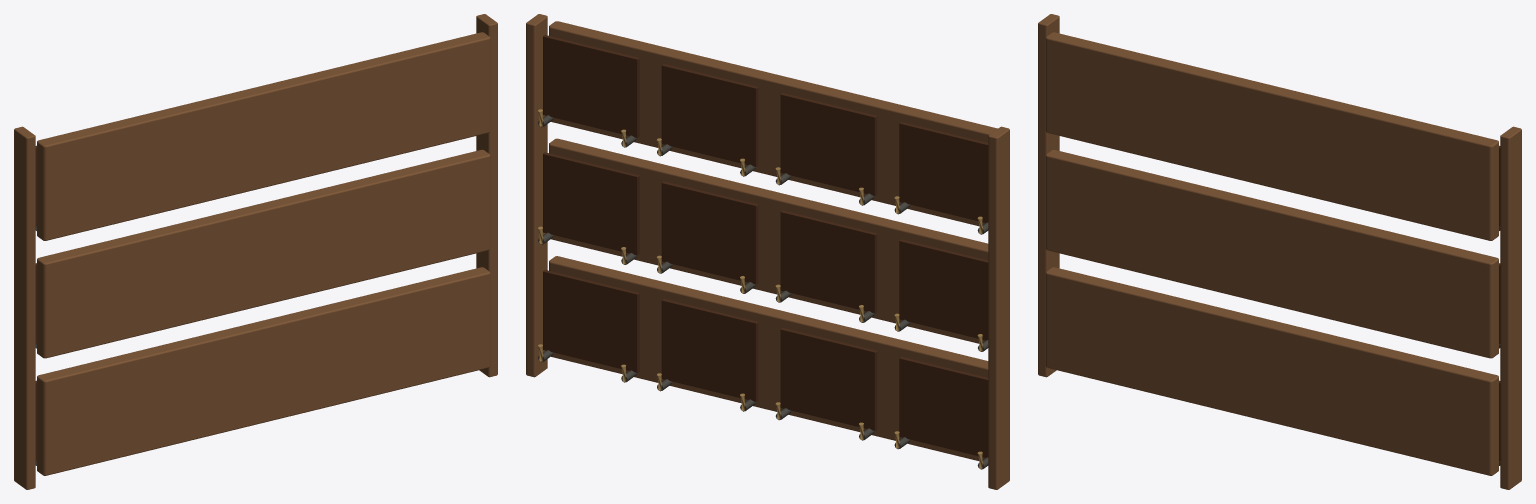
Rendered from merchant_cassette.fbx.
The picture shows the model from 3 angles, left to right: view 1: azimuth 30°, elevation 25°; view 2: azimuth 150°, elevation 25°; view 3: azimuth 330°, elevation 25°; orthographic projection.
Parts seen in each view (by area): view 1: merchant_cassette_Row2_DarkWood, merchant_cassette_Row0_DarkWood, merchant_cassette_Row1_DarkWood, merchant_cassette_DarkWood; view 2: merchant_cassette_Row0_Leather, merchant_cassette_Row2_Leather, merchant_cassette_Row1_Leather, merchant_cassette_Row2_DarkWood, merchant_cassette_Row1_DarkWood, merchant_cassette_Row0_DarkWood, merchant_cassette_DarkWood, merchant_cassette_Row0_ForgedIron, merchant_cassette_Row2_ForgedIron, merchant_cassette_Row1_ForgedIron, merchant_cassette_Row1_Brass, merchant_cassette_Row0_Brass (+1 smaller); view 3: merchant_cassette_Row2_DarkWood, merchant_cassette_Row0_DarkWood, merchant_cassette_Row1_DarkWood, merchant_cassette_DarkWood.
Part boxes in pixels (x1=…): merchant_cassette_Row2_DarkWood: x1=37, y1=32, x2=490, y2=240; merchant_cassette_Row0_DarkWood: x1=37, y1=267, x2=490, y2=475; merchant_cassette_Row1_DarkWood: x1=37, y1=149, x2=490, y2=358; merchant_cassette_DarkWood: x1=14, y1=14, x2=497, y2=489; merchant_cassette_Row0_Leather: x1=543, y1=270, x2=988, y2=457; merchant_cassette_Row2_Leather: x1=543, y1=35, x2=988, y2=222; merchant_cassette_Row1_Leather: x1=543, y1=152, x2=988, y2=340; merchant_cassette_Row2_DarkWood: x1=549, y1=21, x2=997, y2=226; merchant_cassette_Row1_DarkWood: x1=549, y1=138, x2=988, y2=343; merchant_cassette_Row0_DarkWood: x1=549, y1=256, x2=988, y2=460; merchant_cassette_DarkWood: x1=526, y1=14, x2=1009, y2=489; merchant_cassette_Row0_ForgedIron: x1=538, y1=350, x2=988, y2=469; merchant_cassette_Row2_ForgedIron: x1=538, y1=115, x2=988, y2=234; merchant_cassette_Row1_ForgedIron: x1=538, y1=232, x2=988, y2=351; merchant_cassette_Row1_Brass: x1=538, y1=226, x2=982, y2=351; merchant_cassette_Row0_Brass: x1=538, y1=344, x2=982, y2=468; merchant_cassette_Row2_DarkWood: x1=1045, y1=32, x2=1498, y2=240; merchant_cassette_Row0_DarkWood: x1=1045, y1=267, x2=1498, y2=475; merchant_cassette_Row1_DarkWood: x1=1045, y1=149, x2=1498, y2=358; merchant_cassette_DarkWood: x1=1038, y1=14, x2=1521, y2=489.
Size of the model in its own units: 71.5 by 51 by 5.45.
